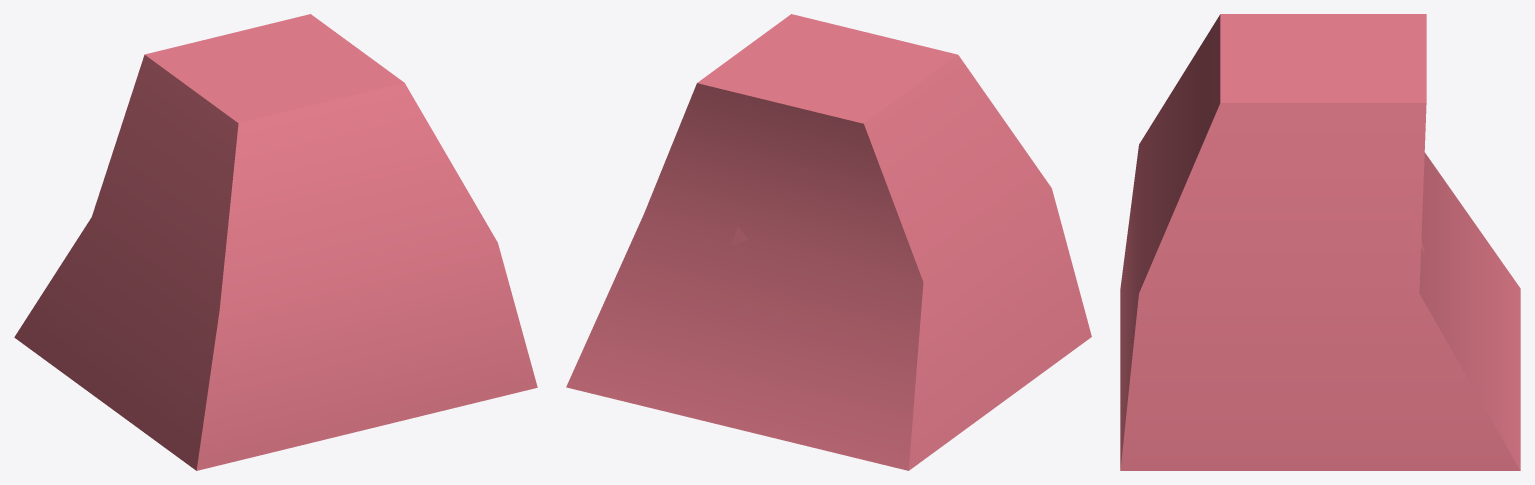
File: PropsLardonStone.fbx
3 renders of one model, left to right at view 1: azimuth 30°, elevation 25°; view 2: azimuth 150°, elevation 25°; view 3: azimuth 270°, elevation 25°, orthographic. The views are drawn at different scales.
Parts seen in each view (by area): view 1: Lardon1; view 2: Lardon1; view 3: Lardon1.
Part boxes in pixels (bbox=[...]): Lardon1: bbox=[14, 14, 537, 470]; Lardon1: bbox=[566, 14, 1091, 470]; Lardon1: bbox=[1120, 14, 1520, 470].
Size of the model in its own units: 0.6095 by 0.5 by 0.5643.
1 material, 1 textured.
